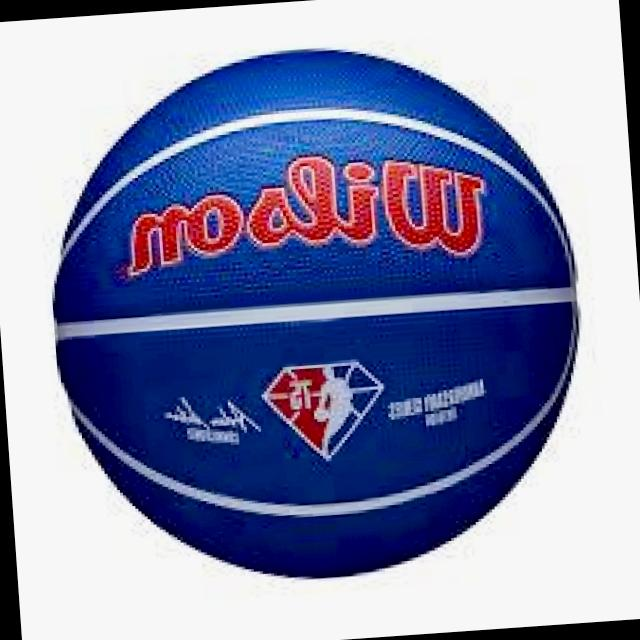ball: (25, 28, 602, 602)
